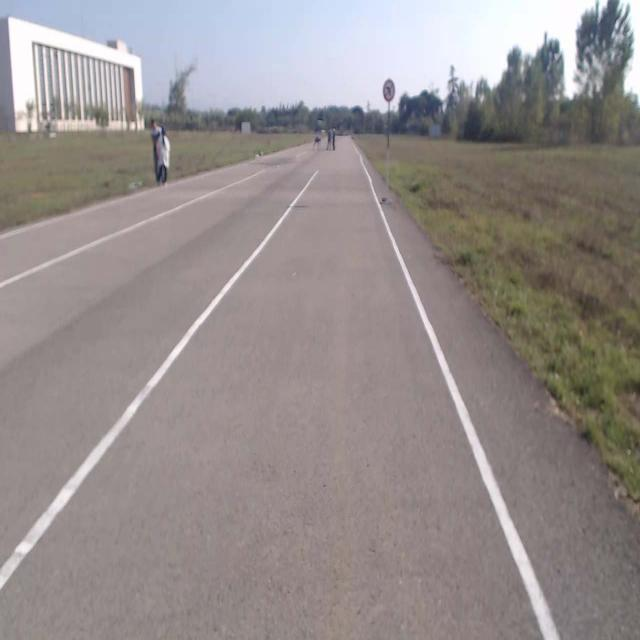soladonulmez: (383, 77, 394, 103)
